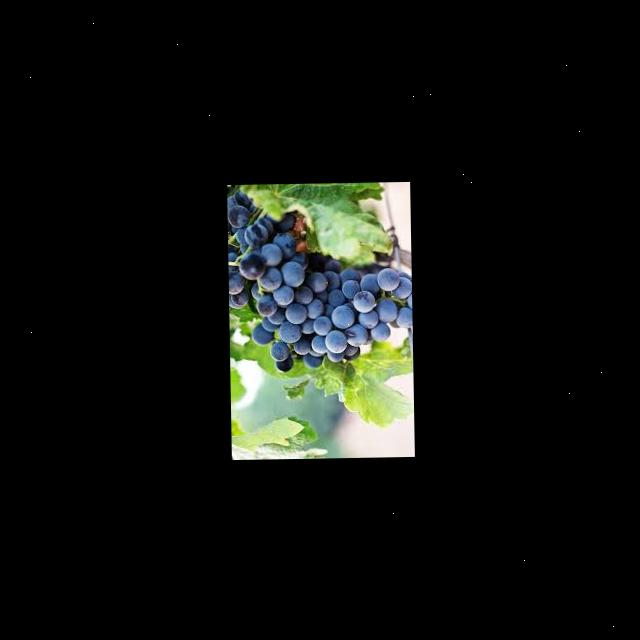grape: (226, 186, 412, 373)
